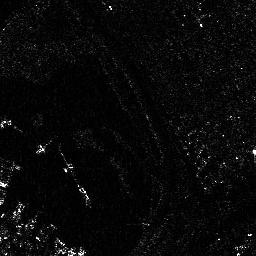ship: (60, 151, 92, 209)
